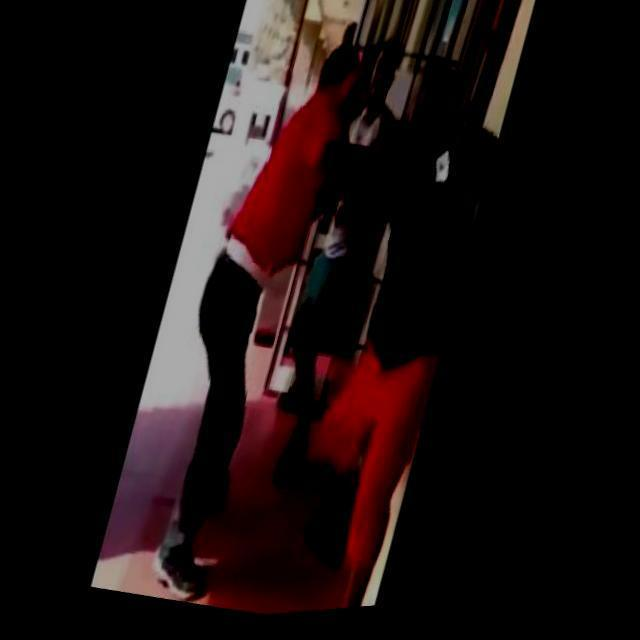fight: (137, 26, 514, 630)
